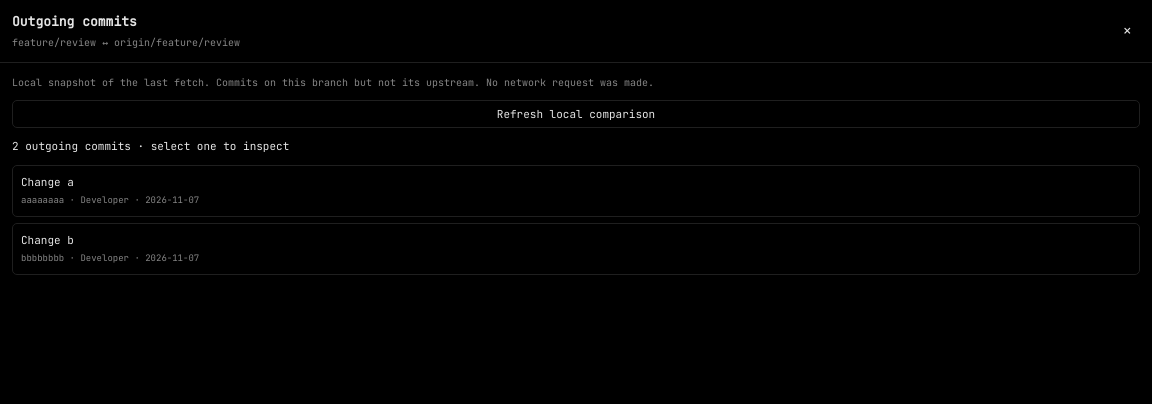
Test: shows directional local commits and inspects only the explicitly selected hash
This screenshot has width=1152, height=404.
Click the button that starts with "Change a" at (47, 182), box [12,164,1140,216]
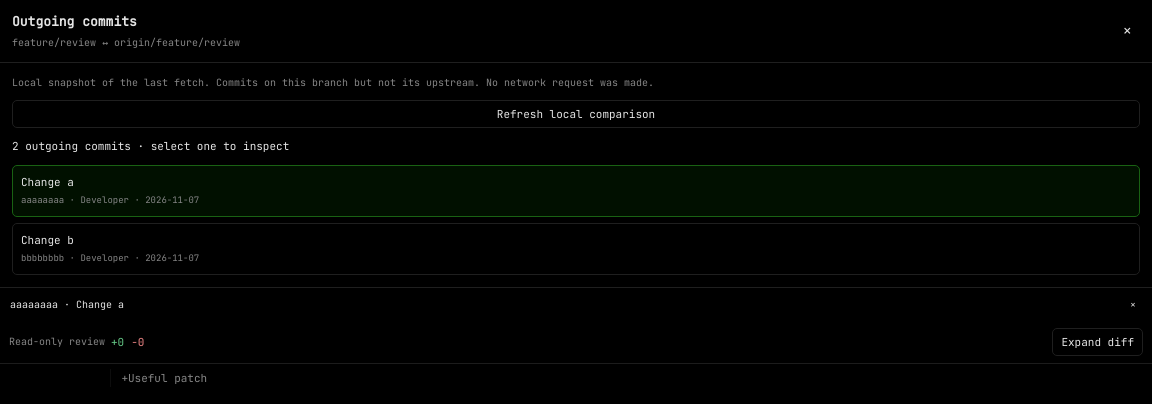
Check: the text "+Useful patch" is shown, box [121,371,207,385]
Check: the 2nd button "×" is shown
Click the 2nd button "×" at (1133, 304), box [1124,294,1142,314]
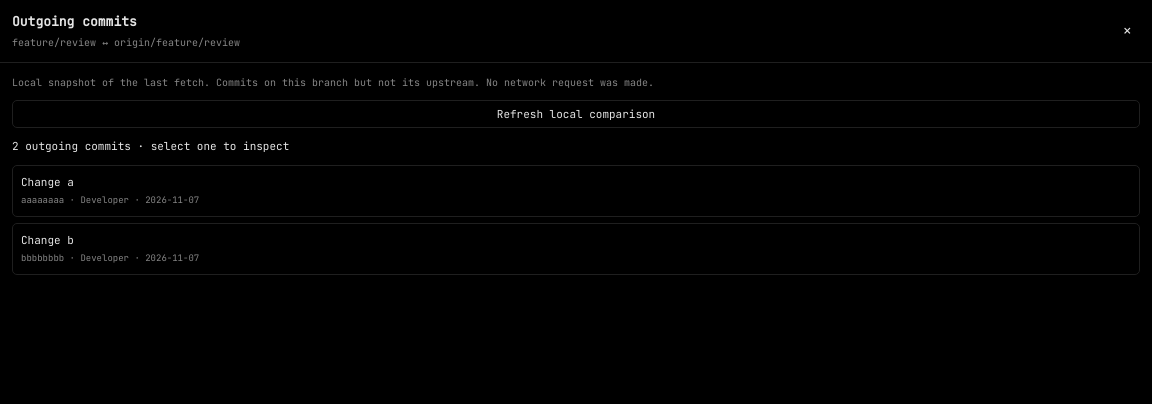
Check: the text "+Useful patch" is gone
